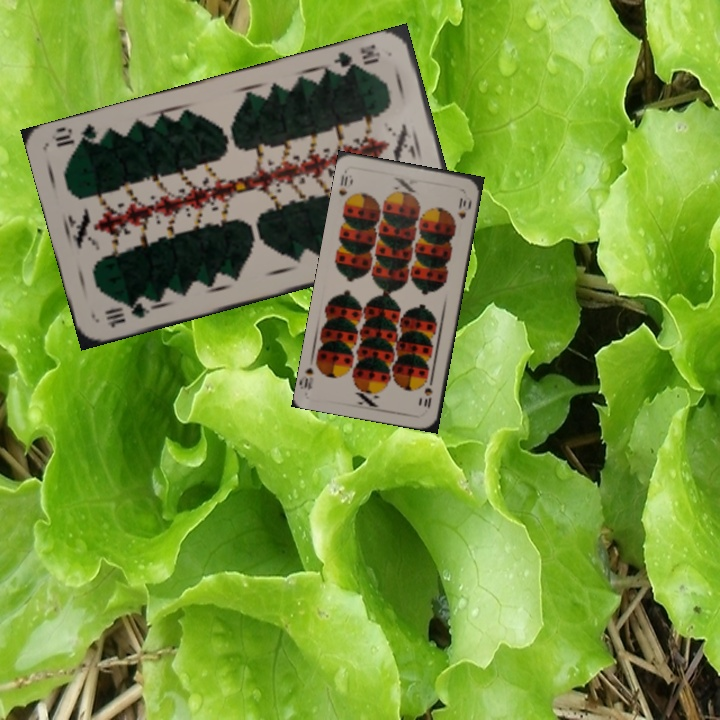G10: (329, 40, 383, 75), (101, 298, 157, 331)
S10: (420, 374, 436, 411), (335, 171, 351, 199)
